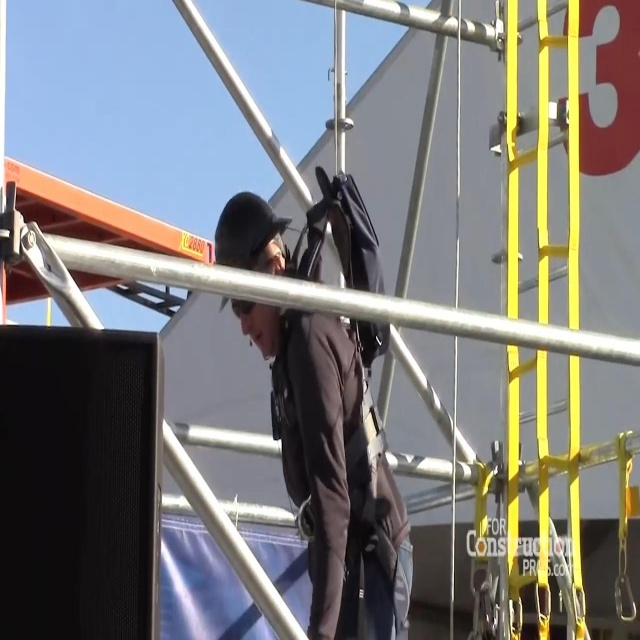Arnes_seguridad: (266, 165, 426, 640)
